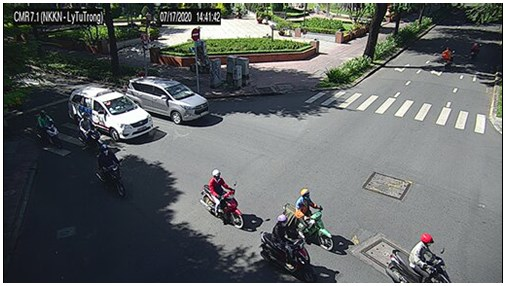xe_hoi: (124, 75, 210, 125)
xe_may: (261, 214, 317, 282), (281, 189, 335, 252), (385, 233, 452, 283), (199, 168, 245, 229), (96, 143, 127, 199), (34, 108, 63, 151), (78, 112, 104, 150), (441, 46, 456, 73), (468, 40, 479, 60)
xe_taxi: (68, 85, 153, 142)
